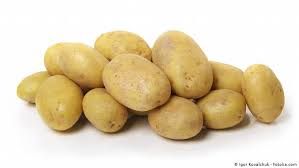potato: (104, 52, 172, 109), (242, 64, 285, 124), (39, 75, 82, 131), (199, 89, 246, 129), (44, 75, 47, 76)
